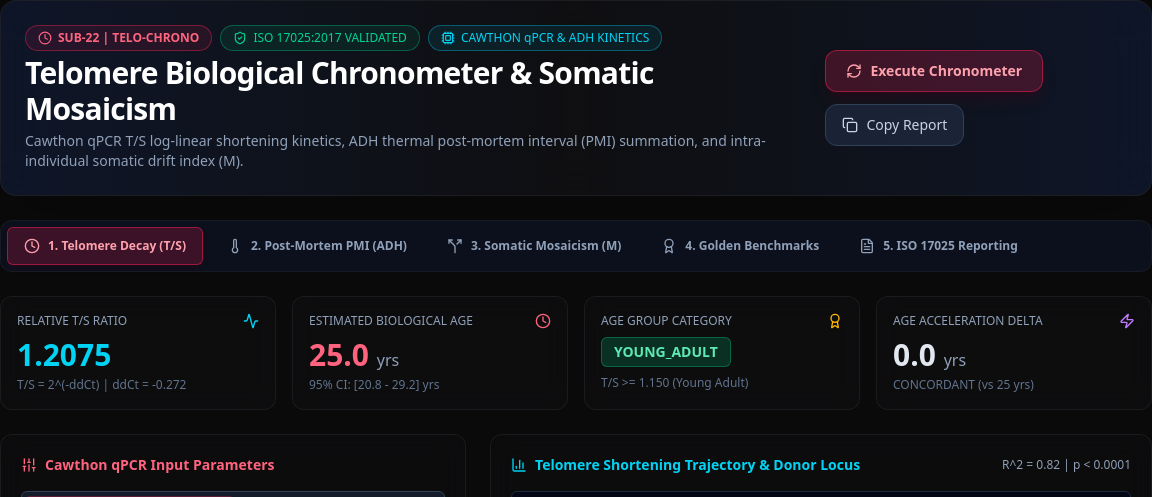
Test case: Pillar 4 Telomere Chronometer & Epigenetic PMI Biocomputation › Component Rendering & UI Interactions › executes chronometer analysis via REST API and handles server response
The width and height of the screenshot is (1152, 497).
What coordinates should you click on to do the following:
click the button "Execute Chronometer"
I would click on:
 (934, 71)
Its box is [826,50,1043,92].
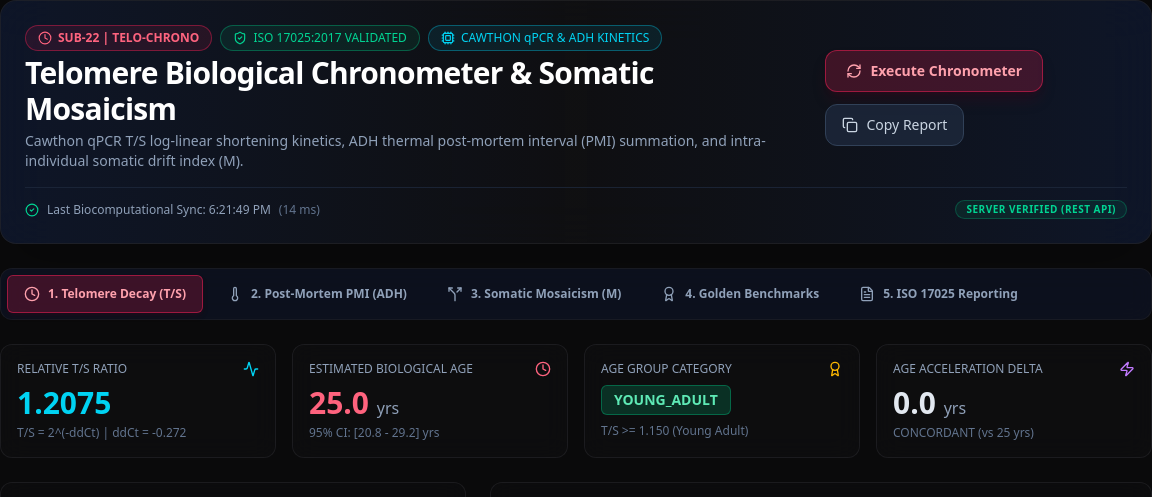
Check: the text "Server Verified (REST API)" is shown, box [956,200,1127,219]
